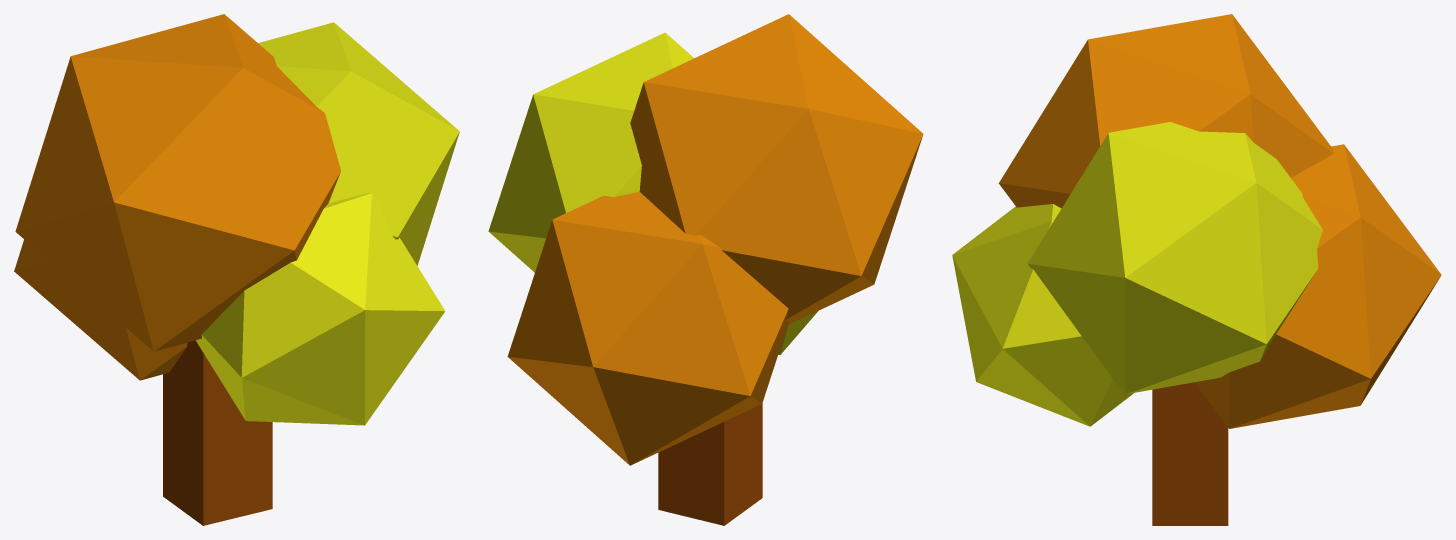
The model's file is wood4.fbx.
The picture shows the model from 3 angles, left to right: view 1: azimuth 30°, elevation 25°; view 2: azimuth 150°, elevation 25°; view 3: azimuth 270°, elevation 25°; orthographic projection. The views are drawn at different scales.
Visible parts, largest first — view 1: wood.003; view 2: wood.003; view 3: wood.003.
Part boxes in pixels (bbox=[...]): wood.003: bbox=[14, 14, 459, 525]; wood.003: bbox=[488, 14, 923, 525]; wood.003: bbox=[952, 14, 1441, 525].
Size of the model in its own units: 233 by 276 by 268.
